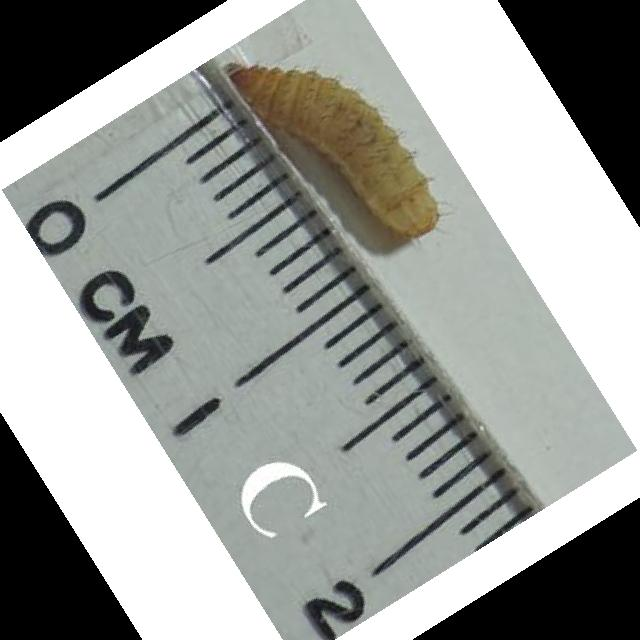Maggot: (221, 55, 442, 244)
